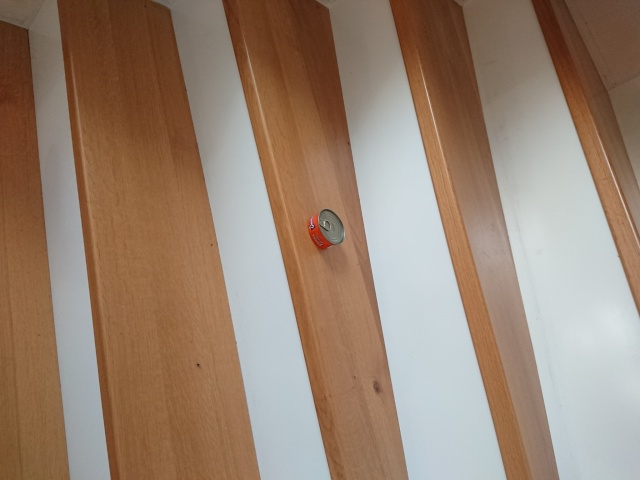Gavrilovic Pork Liver Pate 100g: (306, 206, 346, 250)
